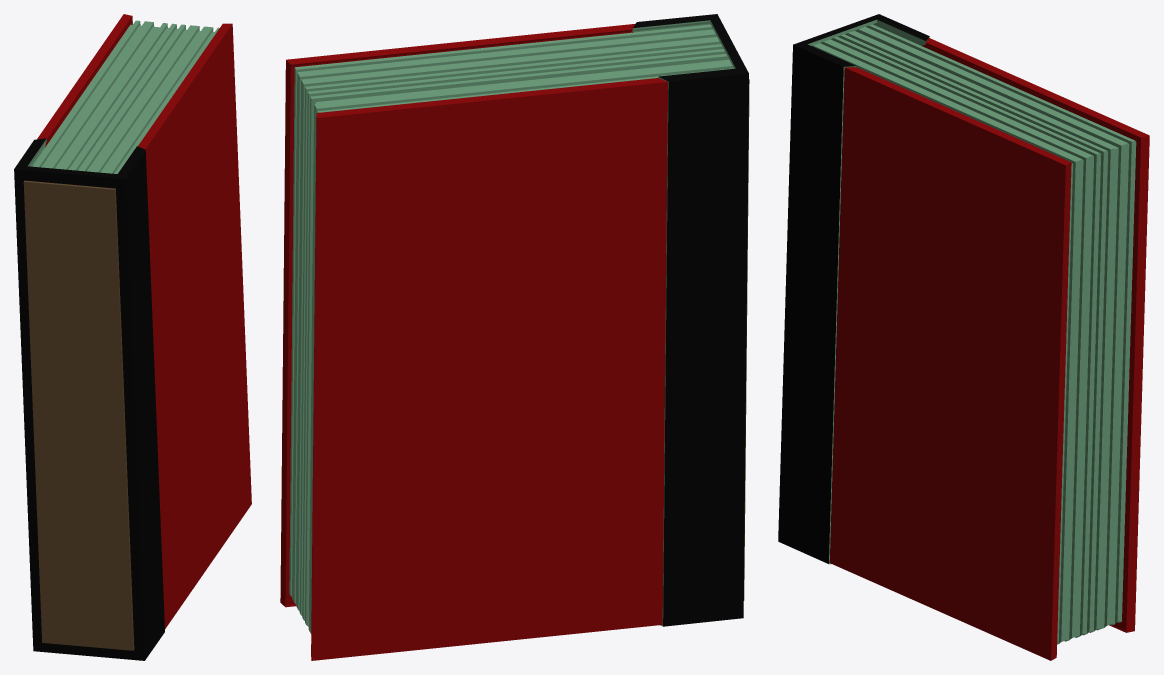
The model's file is SecondShelfBook10.fbx.
3 views of the same model, side by side, from view 1: azimuth 30°, elevation 25°; view 2: azimuth 150°, elevation 25°; view 3: azimuth 270°, elevation 25° (orthographic). The views are drawn at different scales.
Visible parts, largest first — view 1: Book.015; view 2: Book.015; view 3: Book.015.
Part boxes in pixels (left/top/right/bottom): Book.015: left=14, top=14, right=251, bottom=660; Book.015: left=280, top=14, right=749, bottom=660; Book.015: left=778, top=14, right=1149, bottom=660.
Bounding box in the file's own units: 123 × 176 × 120.
